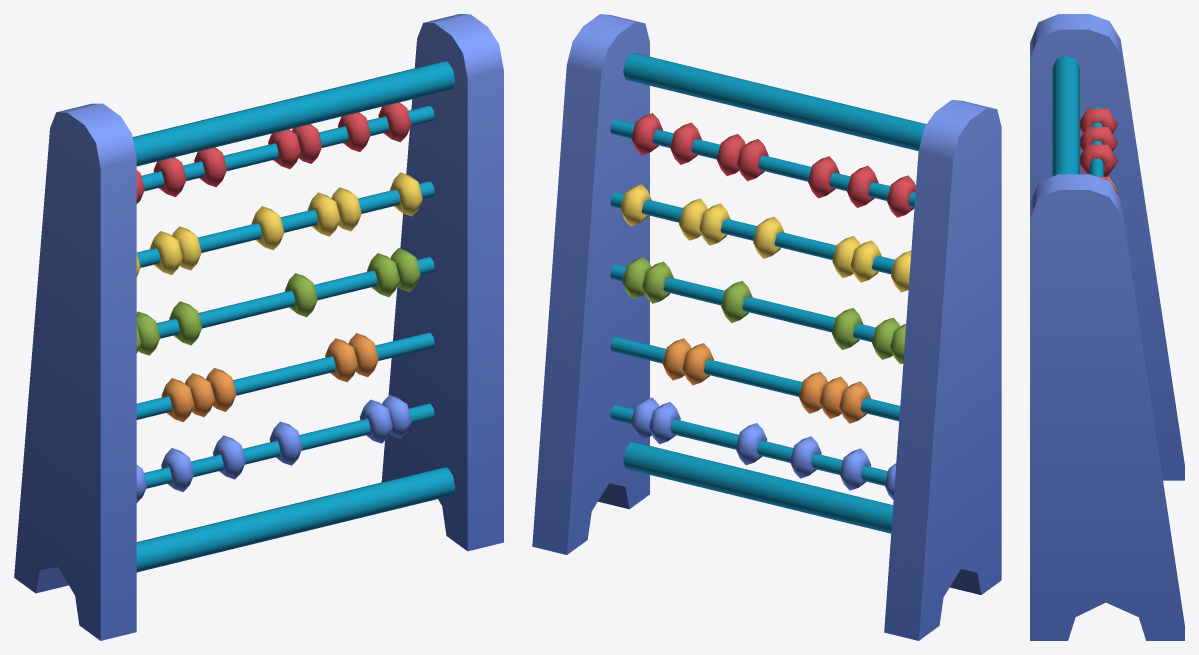
Rendered from SM_Standing_Abacus_04.fbx.
The picture shows the model from 3 angles, left to right: view 1: azimuth 30°, elevation 25°; view 2: azimuth 150°, elevation 25°; view 3: azimuth 270°, elevation 25°; orthographic projection. The views are drawn at different scales.
Parts seen in each view (by area): view 1: SM_Standing_Abacus_04; view 2: SM_Standing_Abacus_04; view 3: SM_Standing_Abacus_04.
Part boxes in pixels (<box>): SM_Standing_Abacus_04: <box>14,14,503,640</box>; SM_Standing_Abacus_04: <box>532,14,1001,640</box>; SM_Standing_Abacus_04: <box>1030,14,1184,640</box>.
Size of the model in its own units: 69.5 by 83 by 25.81.
